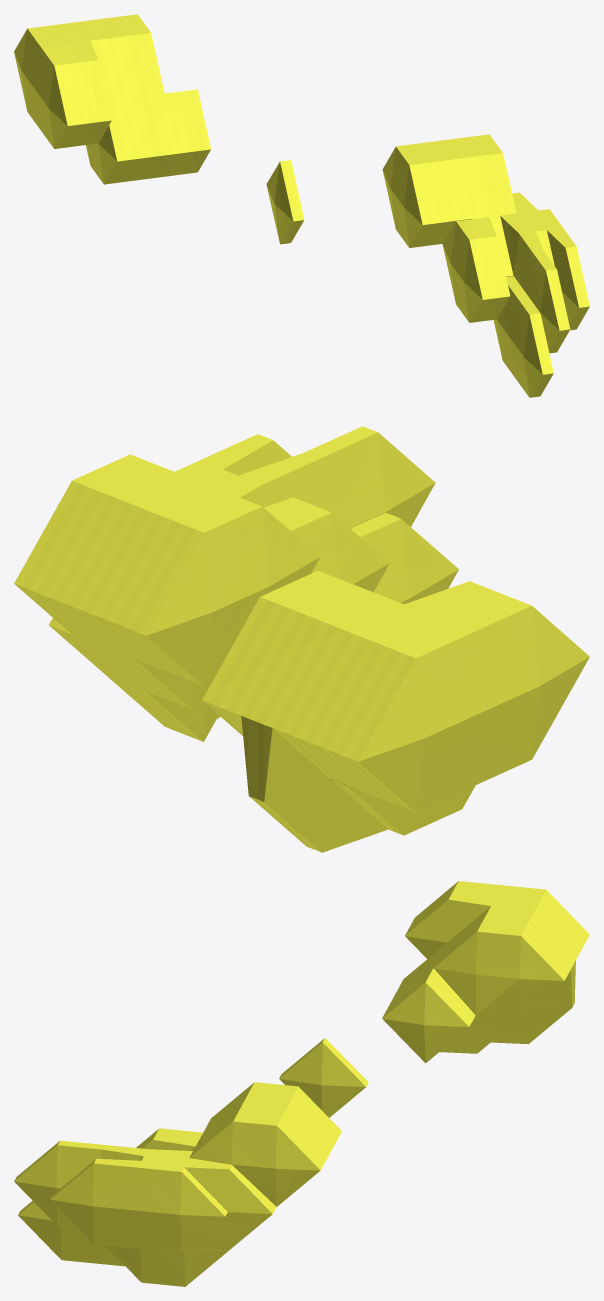
Rendered from SVV_CANL.gltf.
3 views of the same model, one above another, from view 1: azimuth 30°, elevation 25°; view 2: azimuth 150°, elevation 25°; view 3: azimuth 270°, elevation 25° (orthographic). The views are drawn at different scales.
Parts seen in each view (by area): view 1: CANL; view 2: CANL; view 3: CANL.
Part boxes in pixels (bbox=[...]): CANL: bbox=[14, 14, 589, 397]; CANL: bbox=[14, 426, 589, 852]; CANL: bbox=[14, 881, 589, 1286].
Size of the model in its own units: 6128 by 3952 by 8435.
